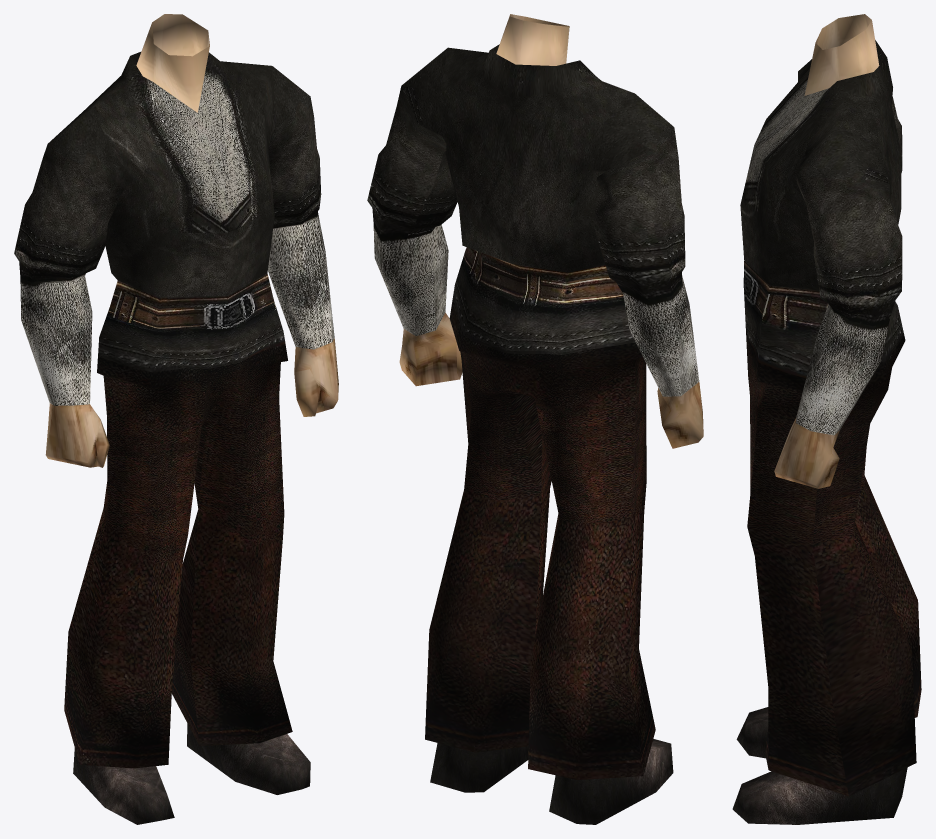
Rendered from GS_ARMOR_LEATHER_L_02.glb.
The picture shows the model from 3 angles, left to right: view 1: azimuth 30°, elevation 25°; view 2: azimuth 150°, elevation 25°; view 3: azimuth 270°, elevation 25°; orthographic projection. The views are drawn at different scales.
Visible parts, largest first — view 1: GS_ARMOR_LEATHER_L_02; view 2: GS_ARMOR_LEATHER_L_02; view 3: GS_ARMOR_LEATHER_L_02.
Boxes of the visible parts, x1,y1,x2,y2 form: GS_ARMOR_LEATHER_L_02: (14, 14, 338, 824); GS_ARMOR_LEATHER_L_02: (367, 14, 703, 824); GS_ARMOR_LEATHER_L_02: (732, 14, 921, 824).
Bounding box in the file's own units: 0.6898 × 1.68 × 0.3778.
2 materials, 2 textured.
